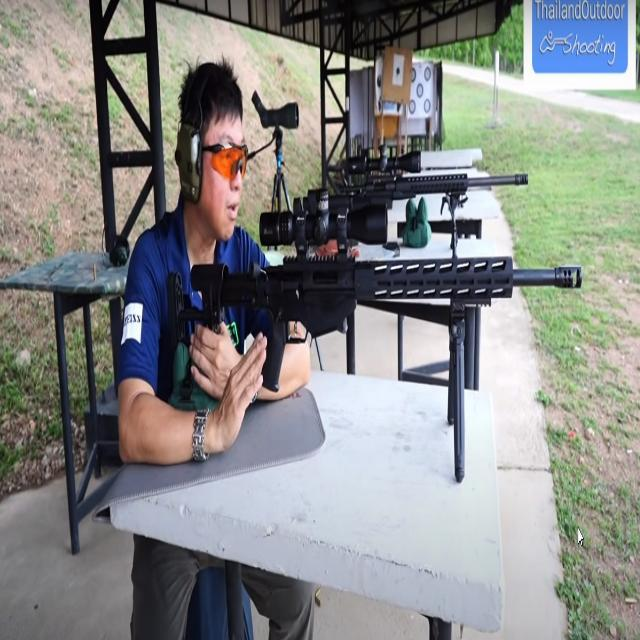rifle: (151, 242, 588, 486)
